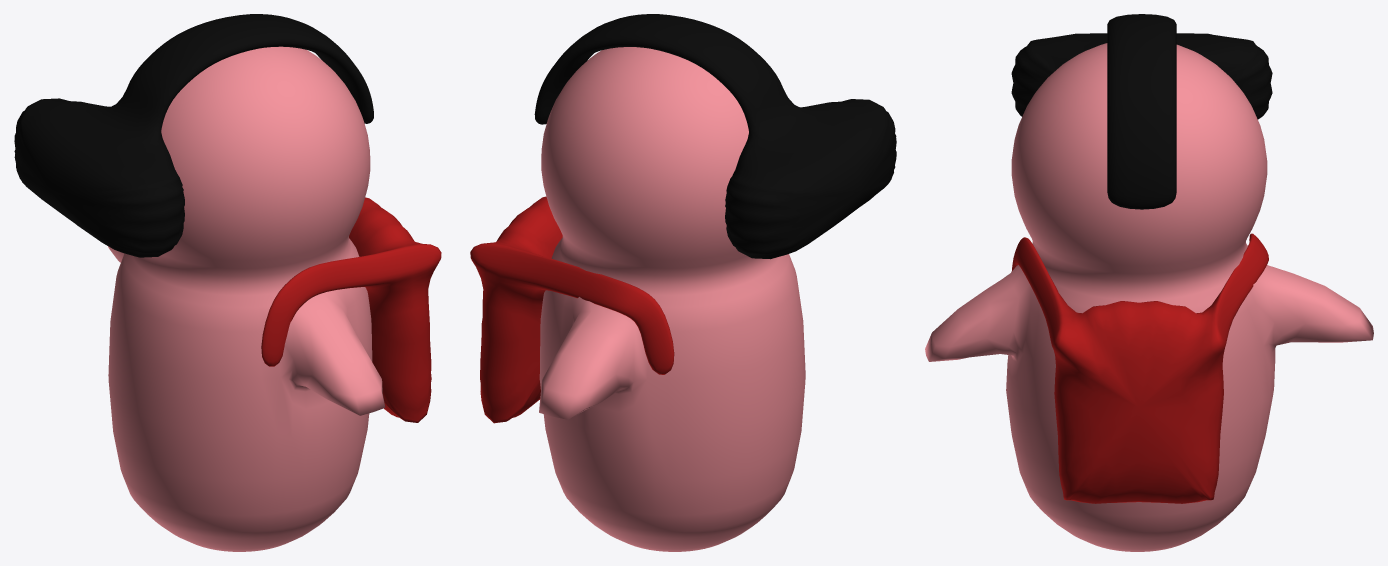
The model's file is EnemyTurbo.FBX.
3 renders of one model, left to right at view 1: azimuth 30°, elevation 25°; view 2: azimuth 150°, elevation 25°; view 3: azimuth 270°, elevation 25°, orthographic.
Visible parts, largest first — view 1: Sphere005, Box009, Box010; view 2: Sphere005, Box009, Box010; view 3: Sphere005, Box010, Box009.
Boxes of the visible parts, left/top/right/bottom form: Sphere005: left=108, top=46, right=385, bottom=551; Box009: left=14, top=14, right=373, bottom=257; Box010: left=261, top=197, right=441, bottom=422; Sphere005: left=539, top=47, right=805, bottom=551; Box009: left=534, top=14, right=896, bottom=259; Box010: left=470, top=196, right=674, bottom=423; Sphere005: left=925, top=43, right=1373, bottom=551; Box010: left=1011, top=233, right=1268, bottom=503; Box009: left=1011, top=14, right=1272, bottom=209.
Size of the model in its own units: 48.8 by 66.09 by 53.52.
